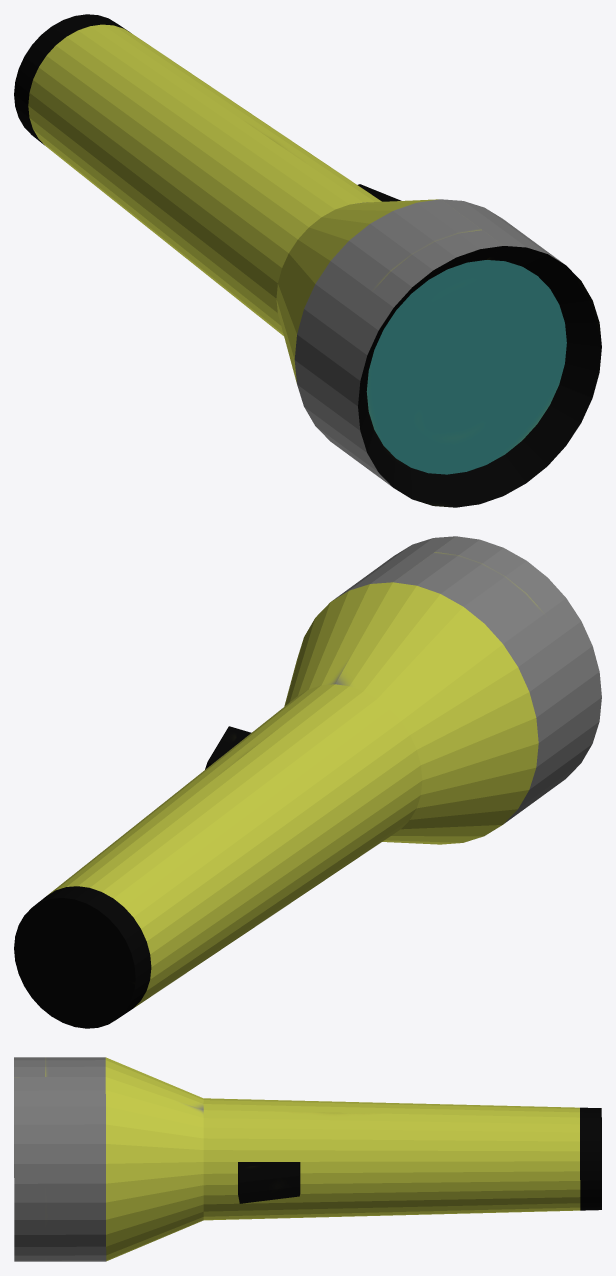
Rendered from torch.fbx.
3 views of the same model, one above another, from view 1: azimuth 30°, elevation 25°; view 2: azimuth 150°, elevation 25°; view 3: azimuth 270°, elevation 25° (orthographic). The views are drawn at different scales.
Visible parts, largest first — view 1: Cylinder; view 2: Cylinder; view 3: Cylinder.
Boxes of the visible parts, x1,y1,x2,y2 form: Cylinder: (14,14,601,507); Cylinder: (14,536,601,1028); Cylinder: (14,1057,601,1261).
Size of the model in its own units: 334 by 335 by 962.
